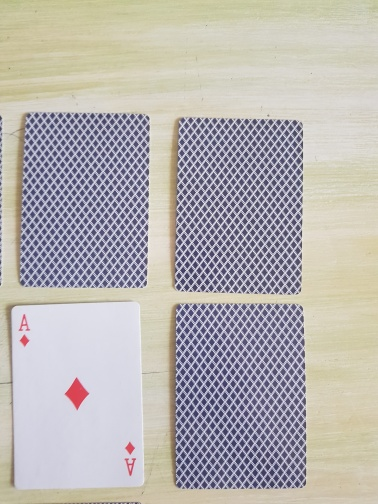ace: (10, 301, 146, 490)
